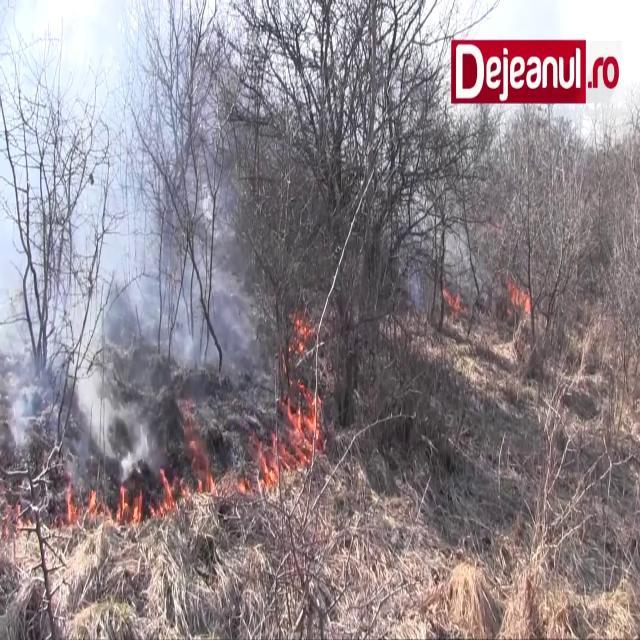Fire: (258, 325, 324, 493)
Smoke: (0, 1, 268, 432)
